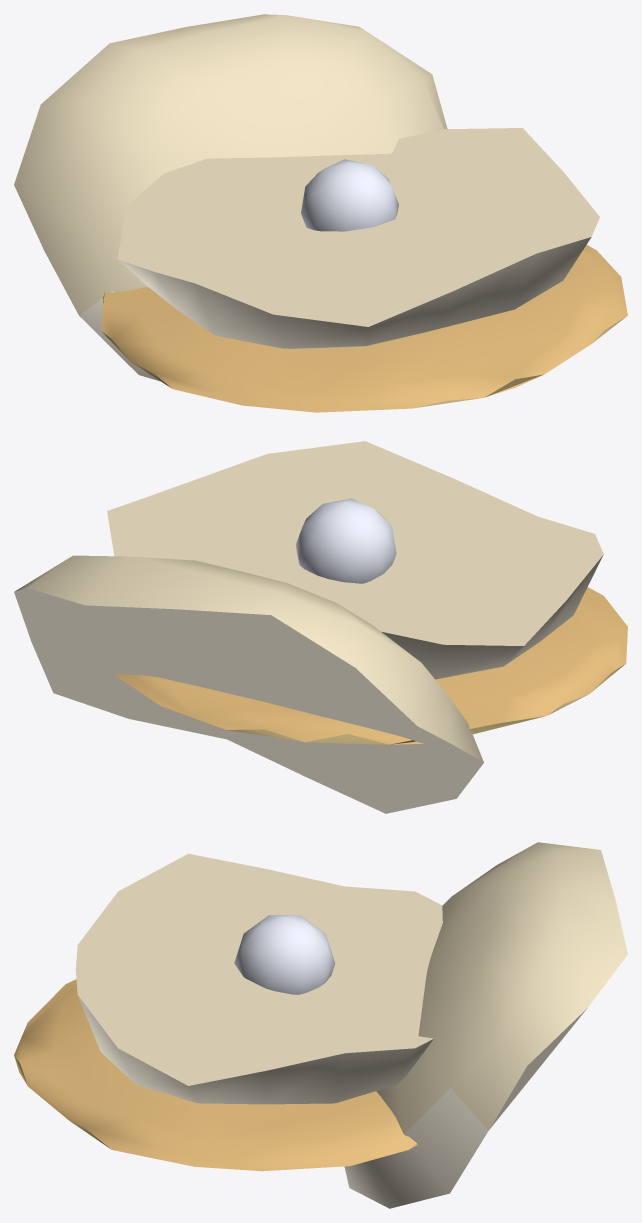
The model's file is GiantClam.fbx.
3 views of the same model, one above another, from view 1: azimuth 30°, elevation 25°; view 2: azimuth 150°, elevation 25°; view 3: azimuth 270°, elevation 25° (orthographic). The views are drawn at different scales.
Parts seen in each view (by area): view 1: GiantClam; view 2: GiantClam; view 3: GiantClam.
Boxes of the visible parts, x1,y1,x2,y2 form: GiantClam: (14,14,627,412); GiantClam: (14,441,627,813); GiantClam: (14,842,627,1208).
Size of the model in its own units: 1.5 by 0.8621 by 1.7.
Materials: 2 (2 with a texture image).
